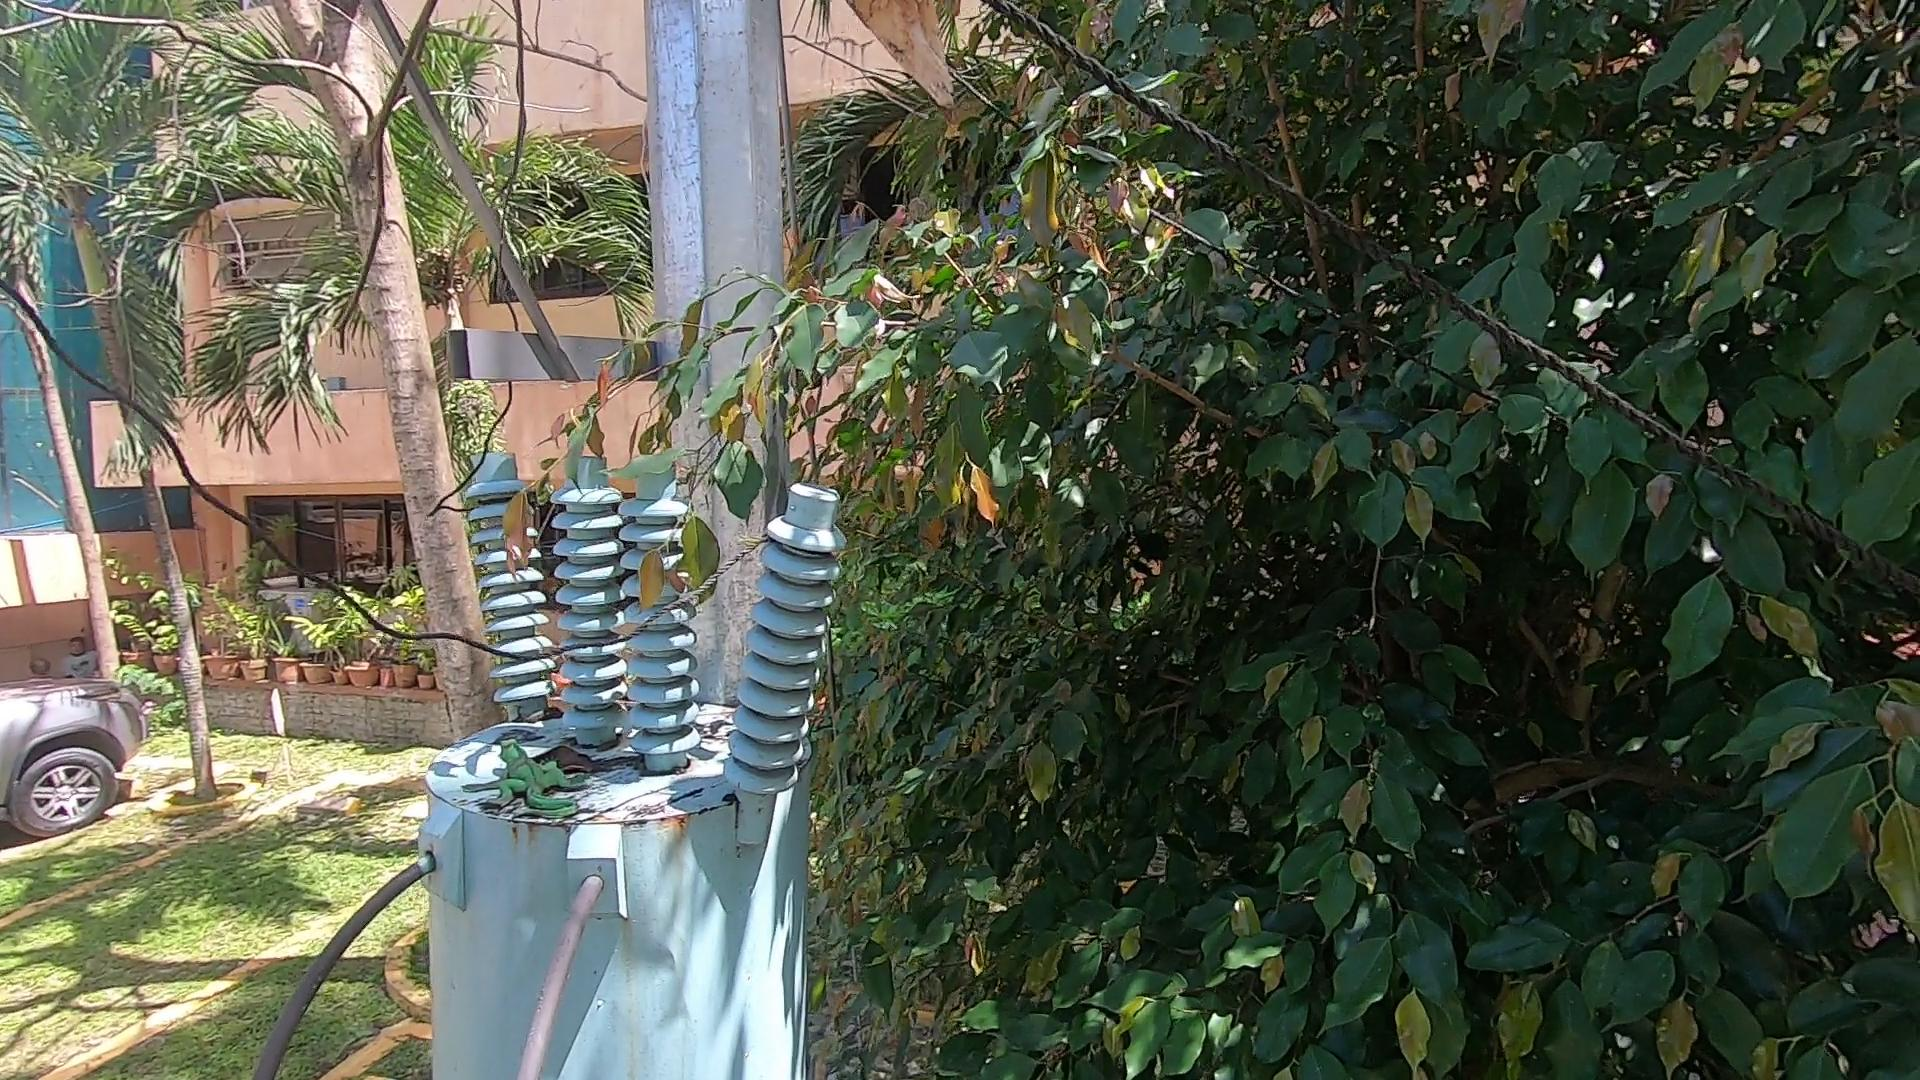branch with leaves: (491, 316, 793, 641)
leaf: (531, 742, 636, 786), (704, 715, 752, 745), (506, 707, 562, 723)
